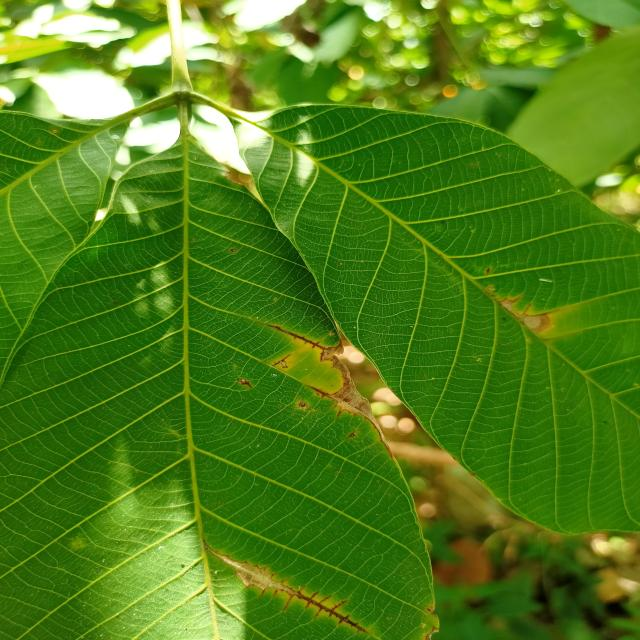Colletotrichum: (230, 248, 236, 252)
Corynespora: (201, 539, 369, 633), (266, 323, 326, 350), (270, 353, 292, 368), (309, 385, 329, 398), (345, 430, 356, 440)
Leaf-Blight: (324, 343, 388, 447), (519, 315, 550, 332), (500, 300, 520, 318)
